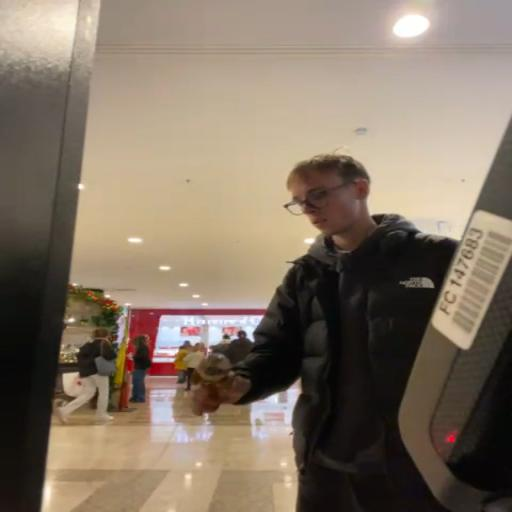kendama_ball: (198, 352, 230, 380)
